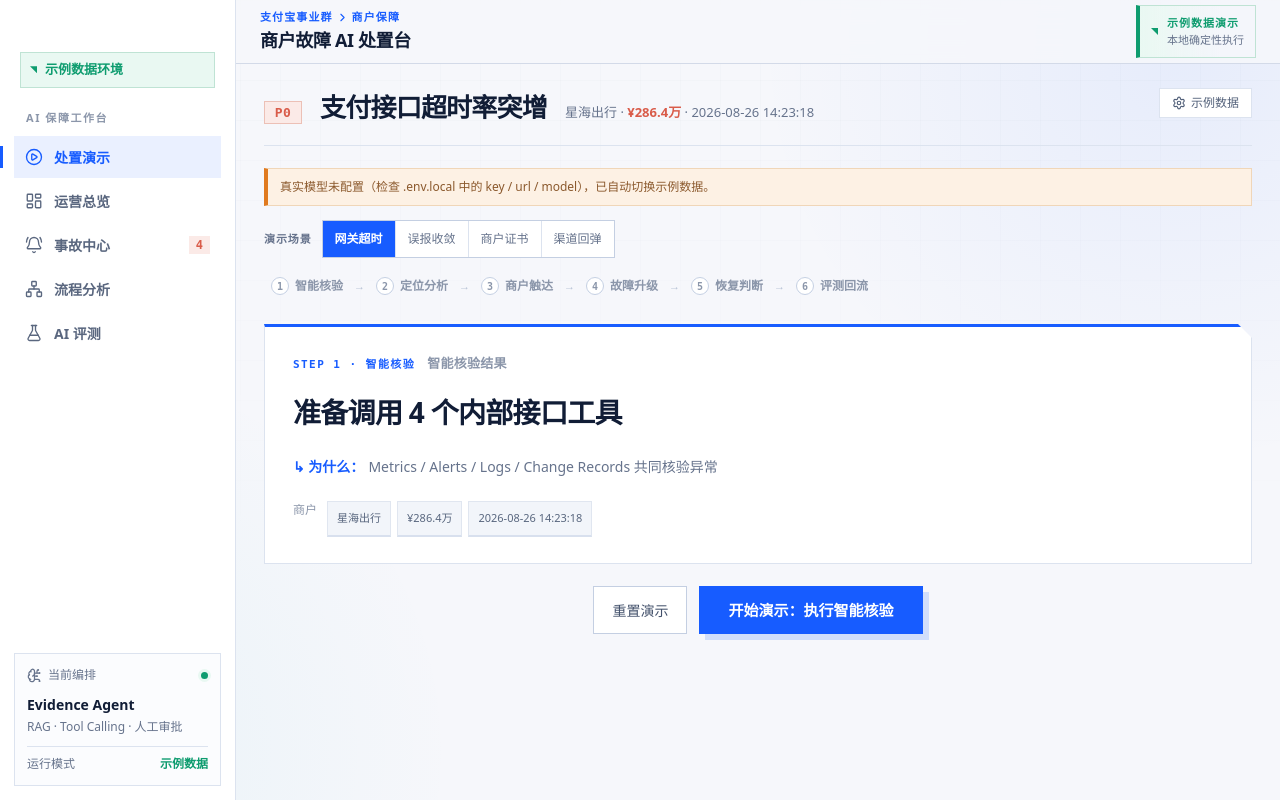
Scenario: dashboard navigation › opens AI evaluation results
The image size is (1280, 800).
Click the button "AI 评测" at (118, 333), box [14,312,221,354]
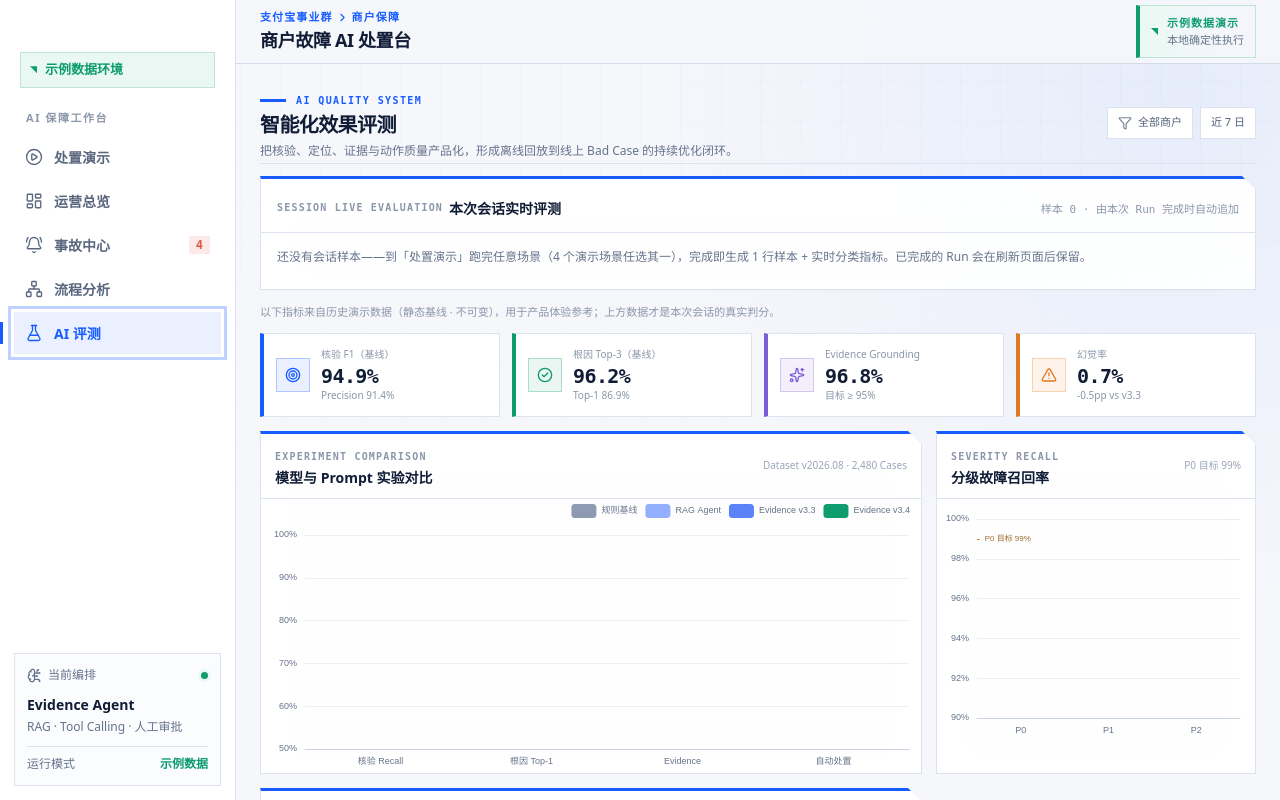
Now the heading "智能化效果评测" is shown, box [260,110,396,138]
